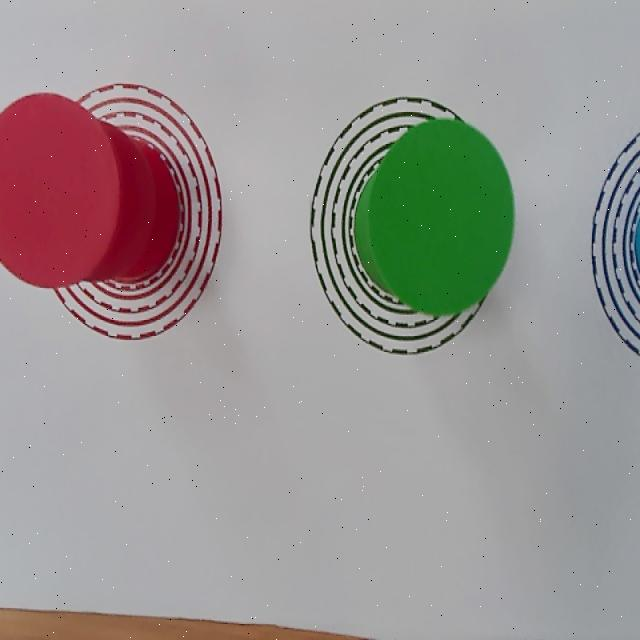g: (369, 120, 514, 314)
